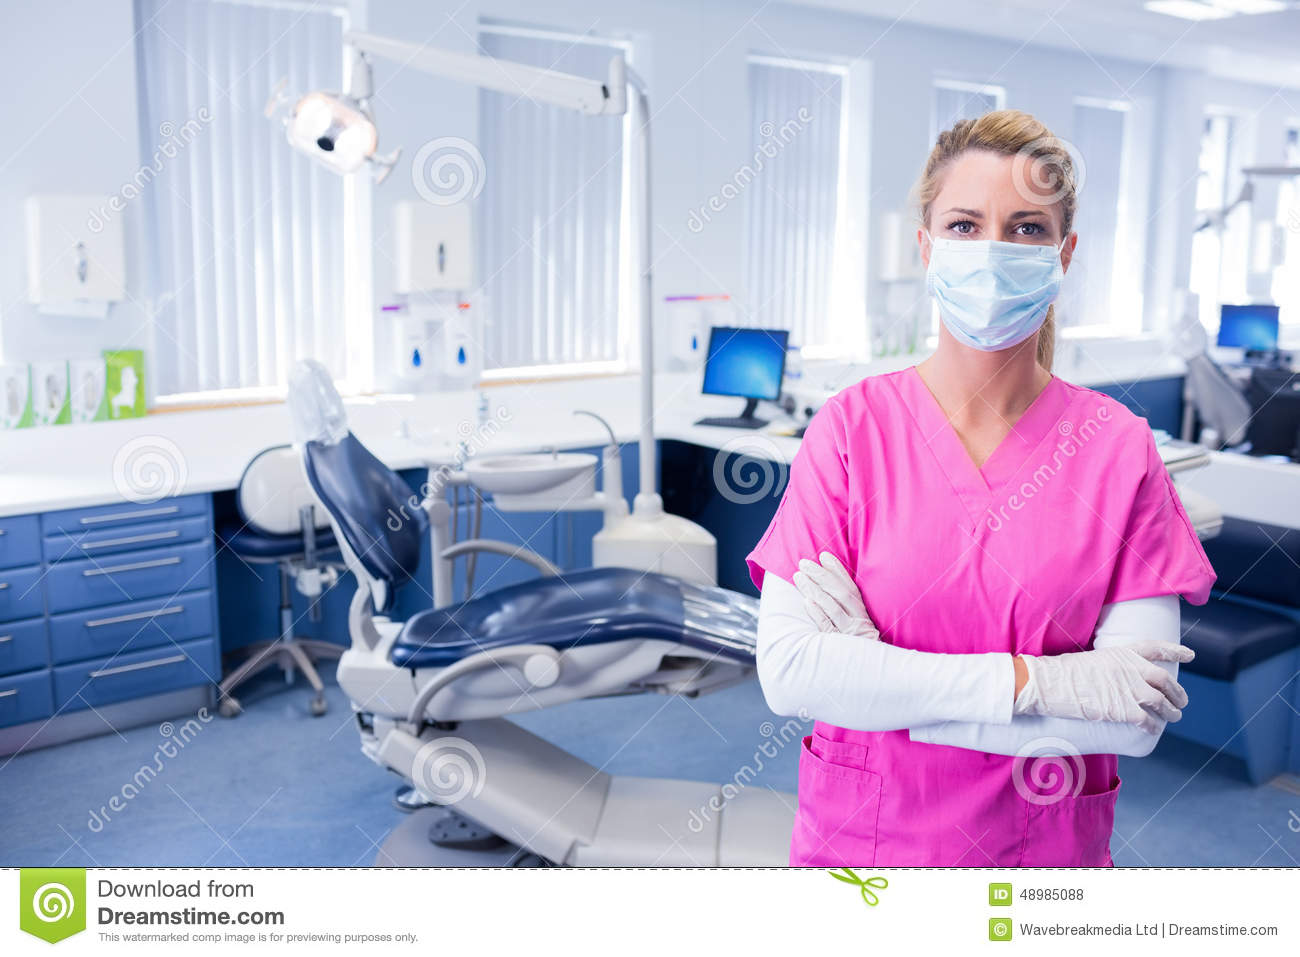mask: (914, 227, 1070, 355)
